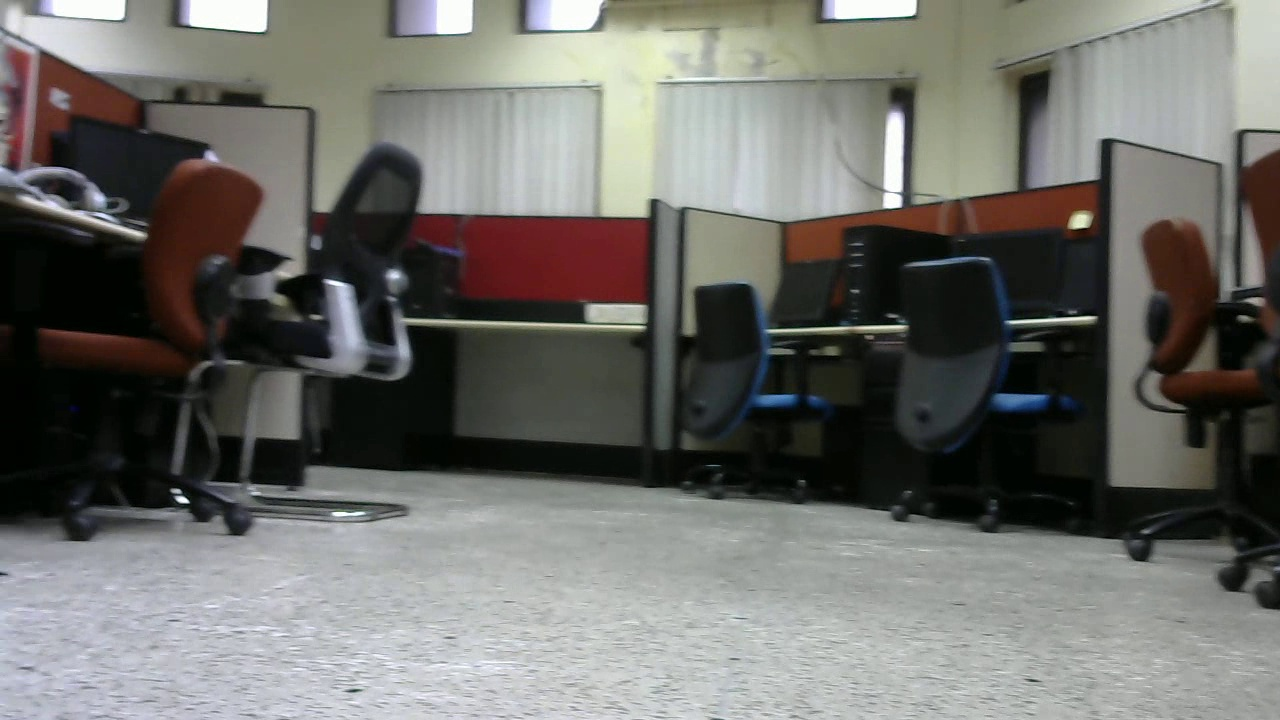chair: (53, 155, 260, 531), (875, 250, 1087, 534), (1104, 222, 1280, 562), (278, 141, 433, 522), (662, 277, 841, 500)
